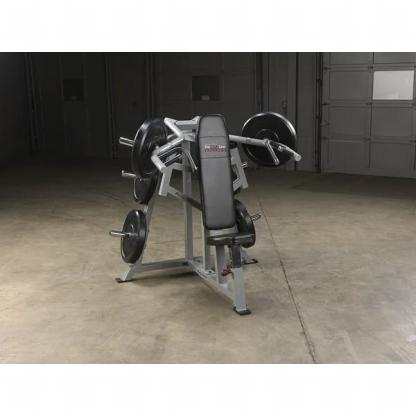shoulder press machine: (113, 112, 305, 317)
